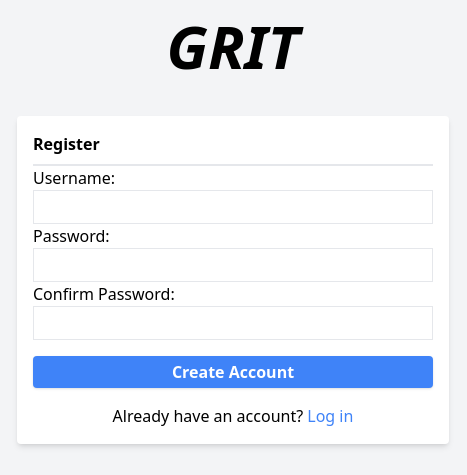
Test: Register Page › register with mismatching passwords
Type "Conor" into the field with id "username" at {"x": 233, "y": 207}, box [33,190,433,224]
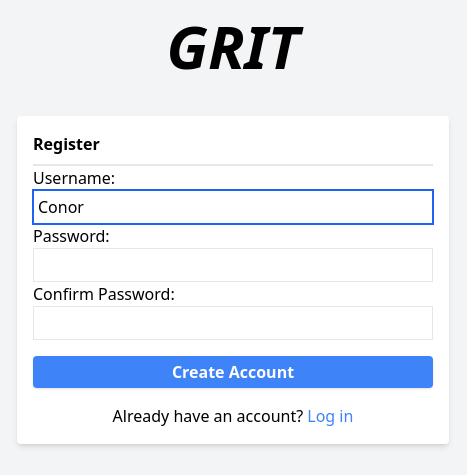
Type "password" into the password field labelled "Password:" at {"x": 233, "y": 265}, box [33,248,433,282]
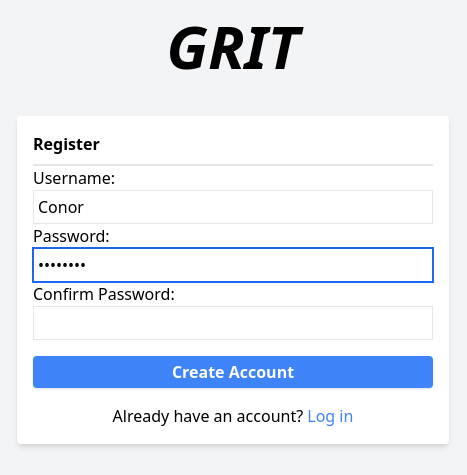
Type "passwor" into the password field with id "confirmPassword" at {"x": 233, "y": 323}, box [33,306,433,340]
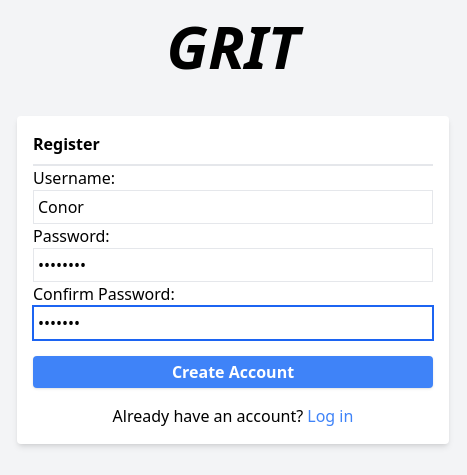
Click the button with test id "create-account" at {"x": 233, "y": 372}, box [33,356,433,388]
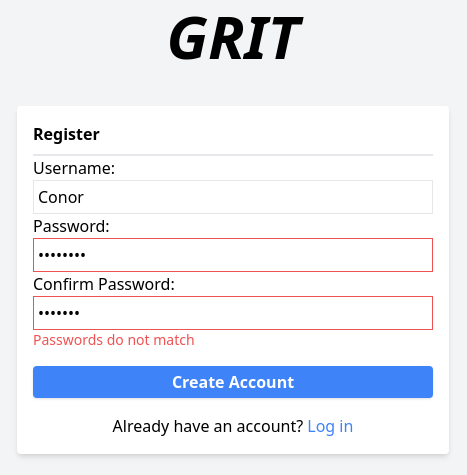
Now the text "Passwords do not match" is shown, box [33,330,195,349]
Type "passwor" into the password field labelled "Password:" at {"x": 233, "y": 255}, box [33,238,433,272]
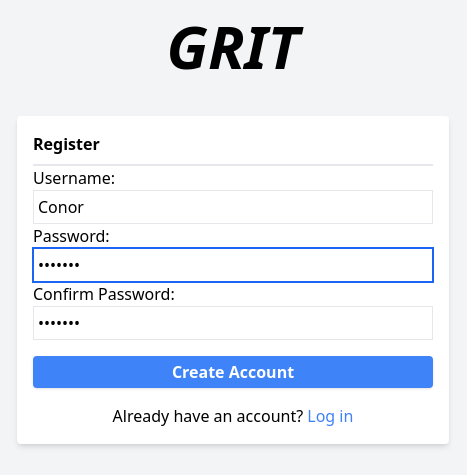
Type "password" into the password field with id "confirmPassword" at {"x": 233, "y": 323}, box [33,306,433,340]
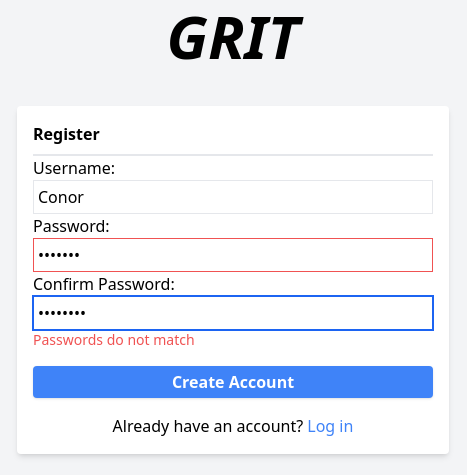
Now the text "Passwords do not match" is shown, box [33,330,195,349]
